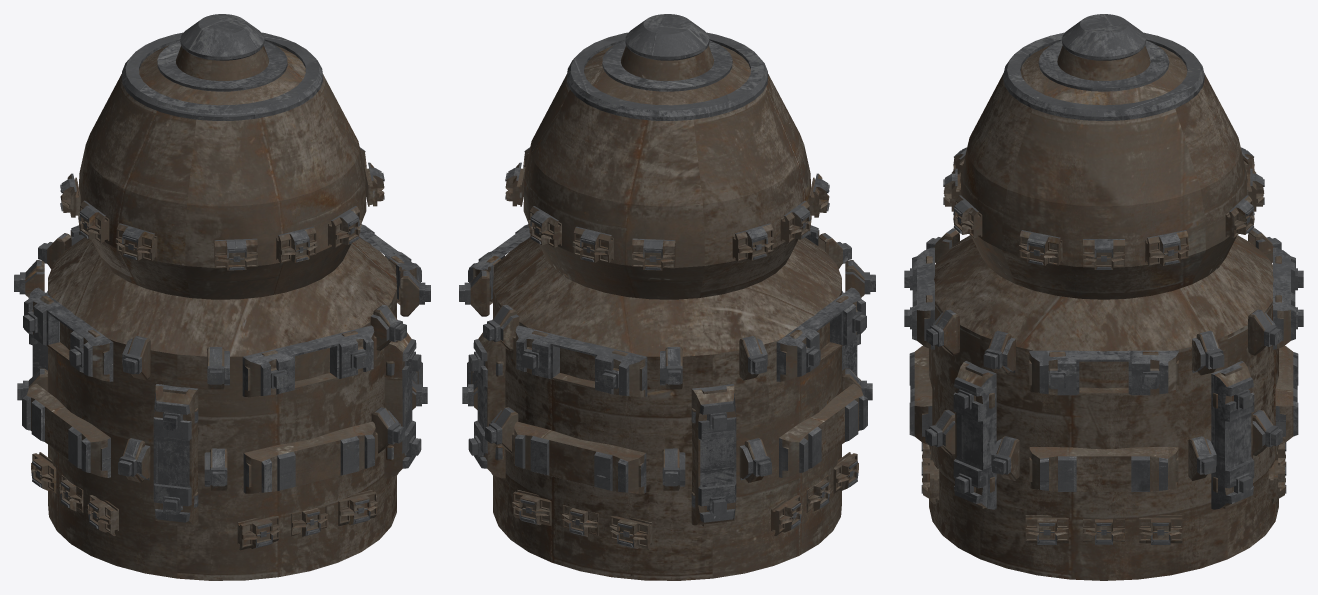
Rendered from Sauerstofftank_1.gltf.
3 views of the same model, side by side, from view 1: azimuth 30°, elevation 25°; view 2: azimuth 150°, elevation 25°; view 3: azimuth 270°, elevation 25° (orthographic).
Visible parts, largest first — view 1: Sauerstofftank; view 2: Sauerstofftank; view 3: Sauerstofftank.
Boxes of the visible parts, x1,y1,x2,y2 form: Sauerstofftank: [14, 14, 430, 580]; Sauerstofftank: [459, 14, 875, 580]; Sauerstofftank: [904, 14, 1303, 580].
Bounding box in the file's own units: 4.44 × 5.92 × 4.44.
